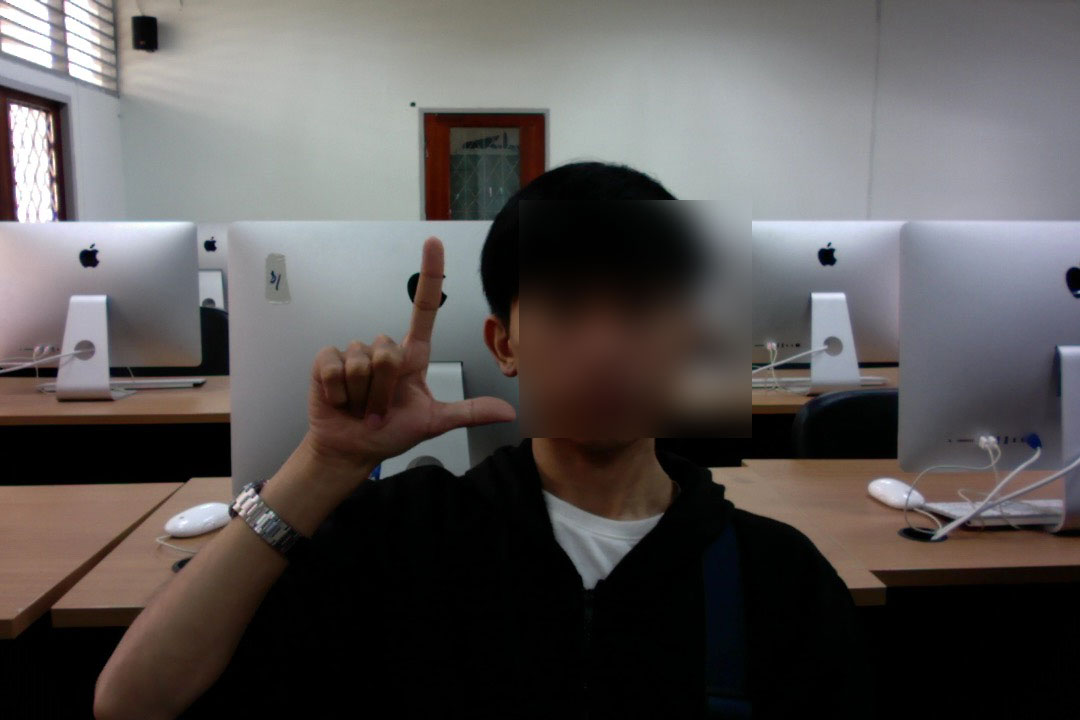lor: (264, 229, 528, 456)
